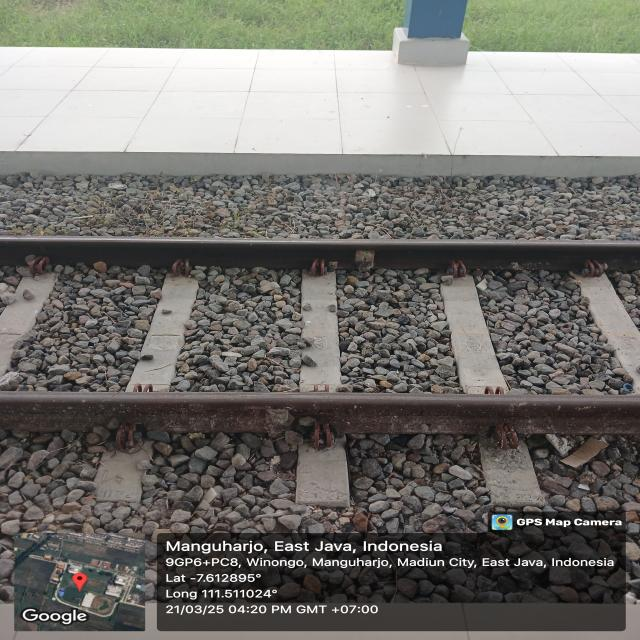rail-detection: (0, 389, 640, 435), (0, 236, 640, 270)
